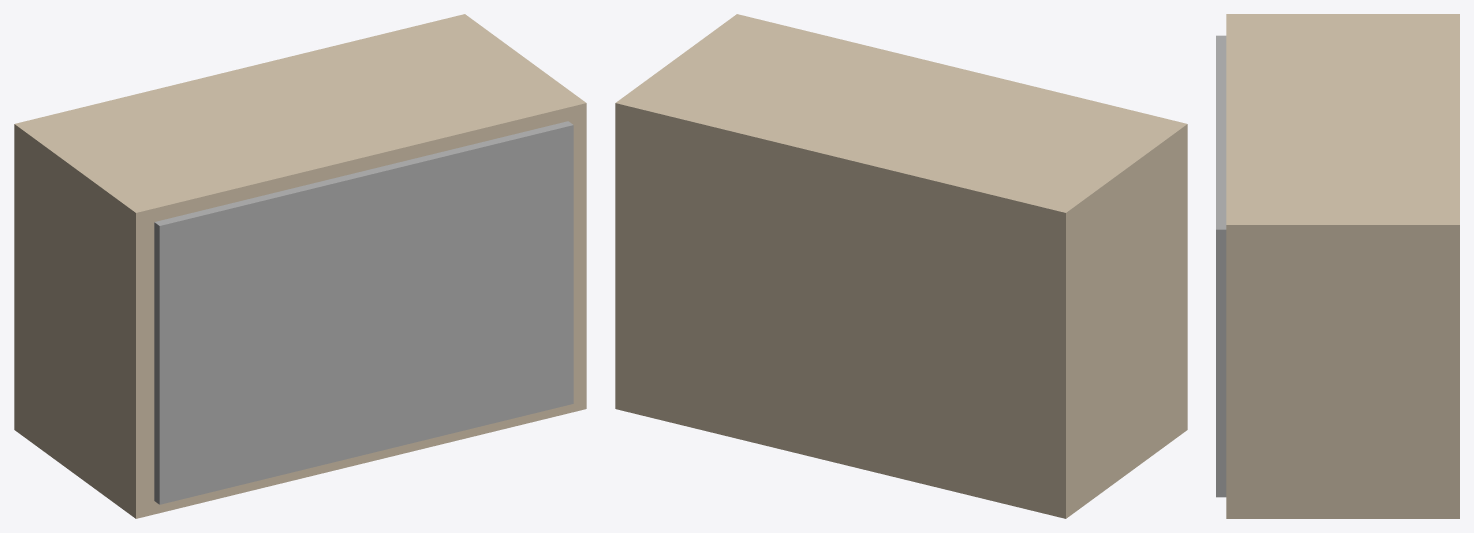
The model's file is speaker.fbx.
The picture shows the model from 3 angles, left to right: view 1: azimuth 30°, elevation 25°; view 2: azimuth 150°, elevation 25°; view 3: azimuth 270°, elevation 25°; orthographic projection. The views are drawn at different scales.
Parts seen in each view (by area): view 1: Cube_15; view 2: Cube_15; view 3: Cube_15.
Boxes of the visible parts, left/top/right/bottom form: Cube_15: left=14, top=14, right=586, bottom=518; Cube_15: left=615, top=14, right=1187, bottom=518; Cube_15: left=1216, top=14, right=1459, bottom=518.
Size of the model in its own units: 48.83 by 31.68 by 23.84.
